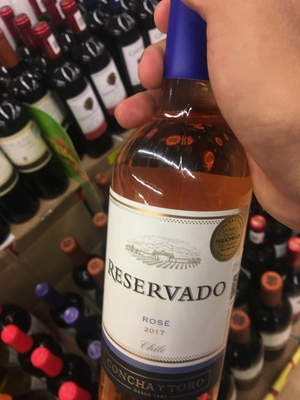reservado rose: (94, 3, 271, 400)
